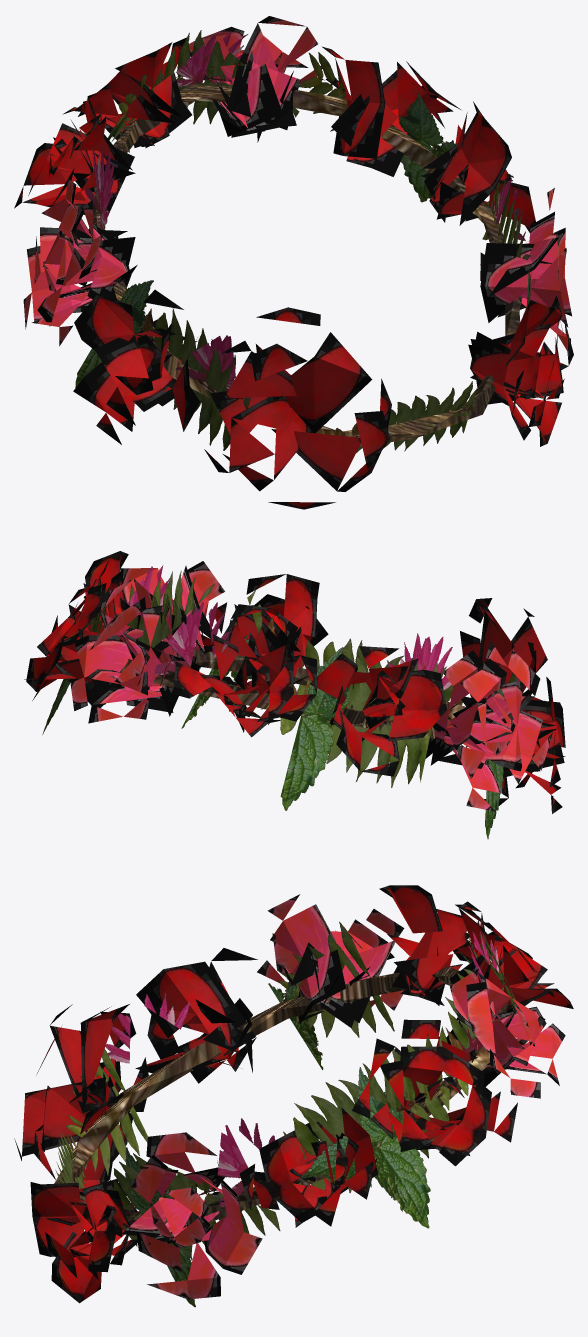
File: KOZA_WIANEK_RED.glb
3 views of the same model, one above another, from view 1: azimuth 30°, elevation 25°; view 2: azimuth 150°, elevation 25°; view 3: azimuth 270°, elevation 25° (orthographic). The views are drawn at different scales.
Parts seen in each view (by area): view 1: KOZA_WIANEK_RED; view 2: KOZA_WIANEK_RED; view 3: KOZA_WIANEK_RED.
Boxes of the visible parts, box(x1,y1,x2,y2) form: KOZA_WIANEK_RED: box(14, 16, 573, 509); KOZA_WIANEK_RED: box(24, 551, 565, 839); KOZA_WIANEK_RED: box(14, 885, 573, 1307).
Bounding box in the file's own units: 0.259 × 0.1655 × 0.2576.
5 materials, 5 textured.
